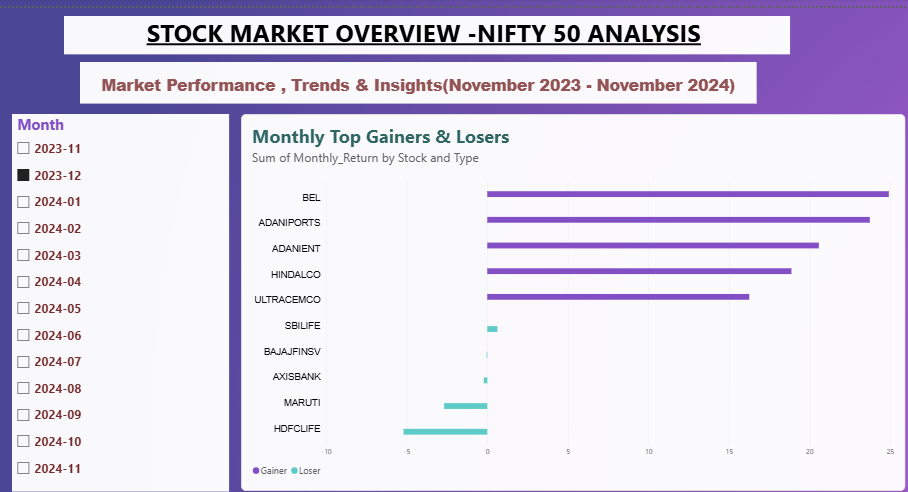

What the dashboard file says about the page in this screenshot:
{"tool":"powerbi","page":{"name":"Page 1","canvas":[1920,1080],"ordinal":0},"visuals":[{"type":"clusteredBarChart","title":"Monthly Top Gainers & Losers","fields":{"Category":["stock_analysis monthly_gainers_losers.Stock"],"Series":["stock_analysis monthly_gainers_losers.Type"],"Y":["Sum(stock_analysis monthly_gainers_losers.Monthly_Return)"]},"box":[376.8,137.7,910.1,565.2],"z":0},{"type":"slicer","fields":{"Values":["stock_analysis monthly_gainers_losers.Month"]},"box":[18.8,137.7,333.3,565.2],"z":1000},{"type":"textbox","box":[111.6,0,1117.4,52.2],"z":1001},{"type":"textbox","box":[137.7,68.1,1040.6,59.4],"z":1002}]}

Visuals, with their boxes on the page's 1920x1080 design canvas (x1, y1, x2, y2). These are canvas units, not pixel positions in the 908x492 screenshot, which may show the page scaled, cropped or inside an application window:
"Monthly Top Gainers & Losers" clusteredBarChart: bbox=(377, 138, 1287, 703)
slicer - stock_analysis monthly_gainers_losers.Month: bbox=(19, 138, 352, 703)
textbox: bbox=(112, 0, 1229, 52)
textbox: bbox=(138, 68, 1178, 128)
